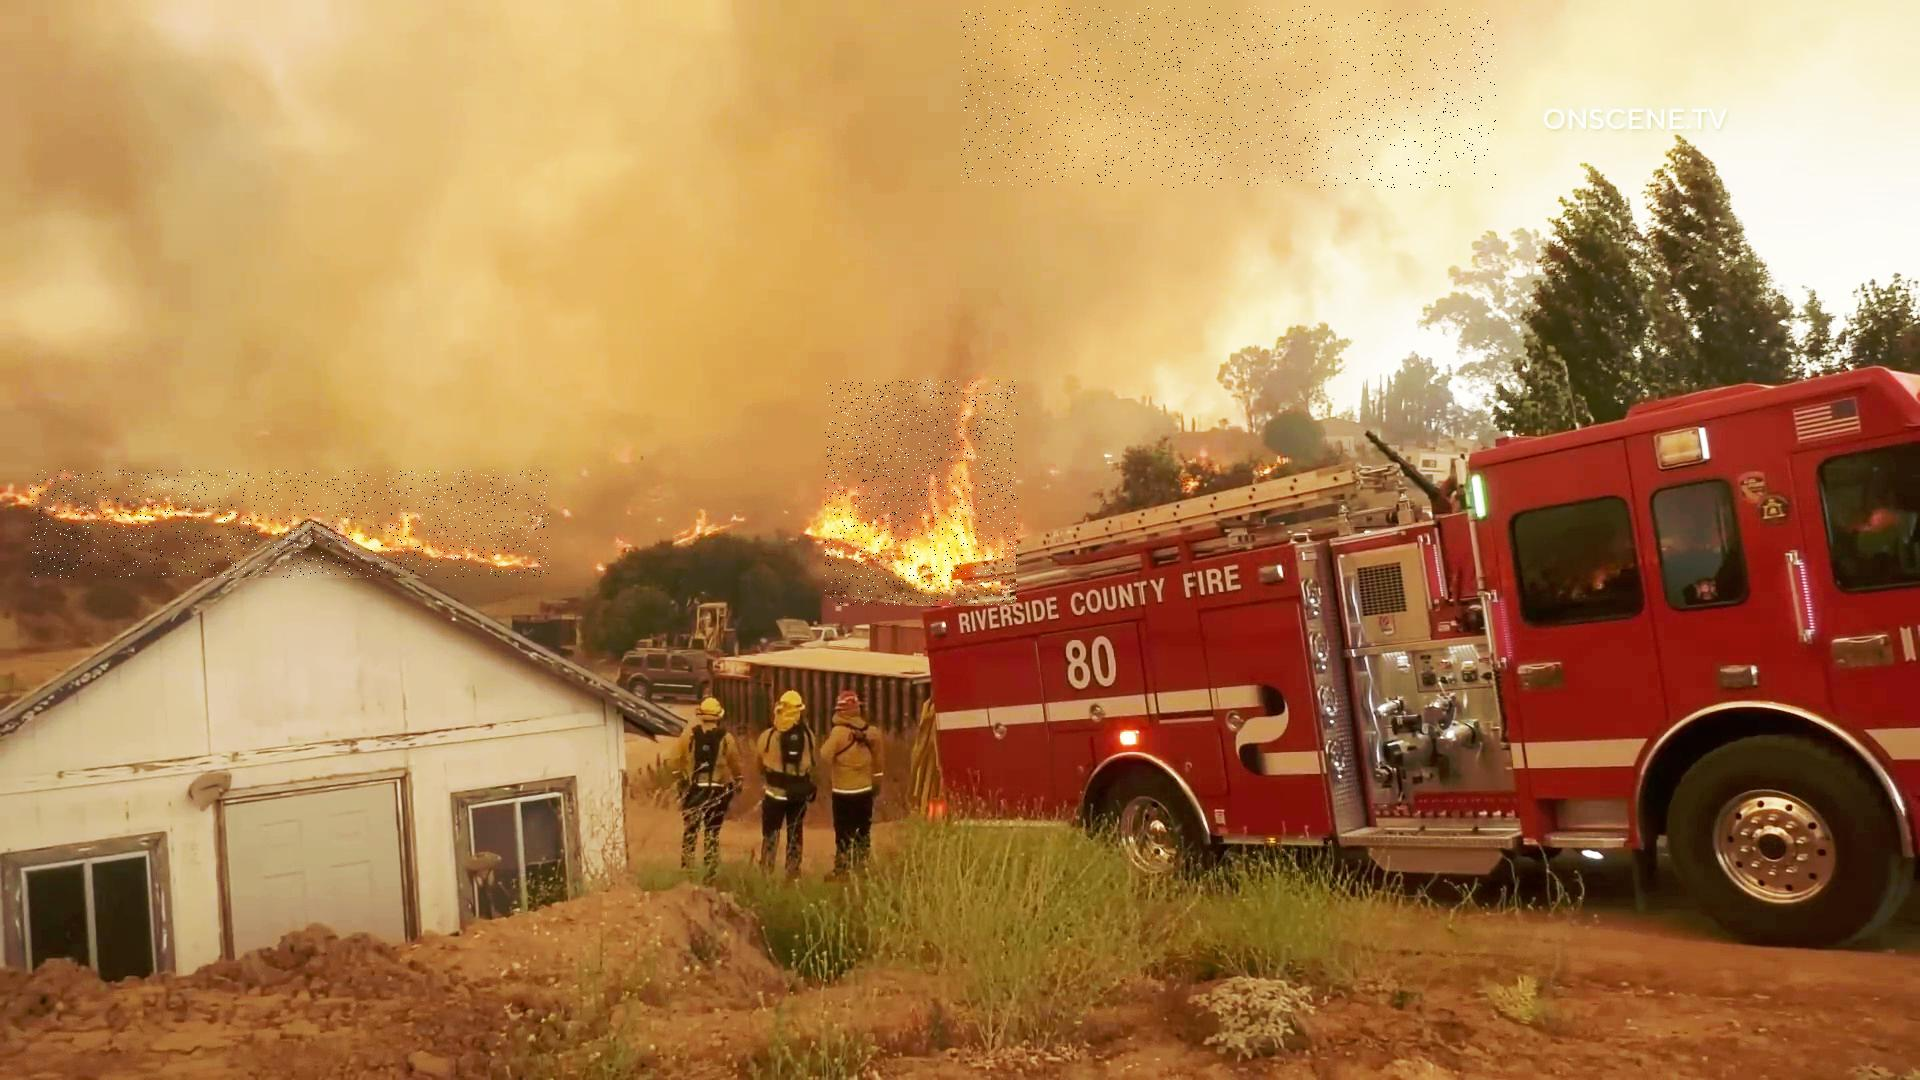fire: (30, 471, 550, 579), (825, 381, 1019, 607)
smoke: (961, 7, 1497, 189)
